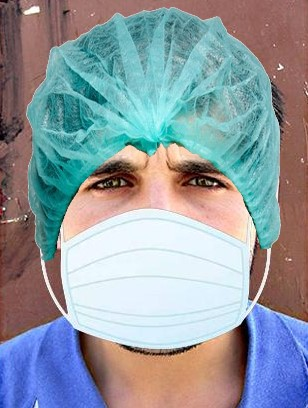with_mask_and_cap: (31, 8, 275, 353)
